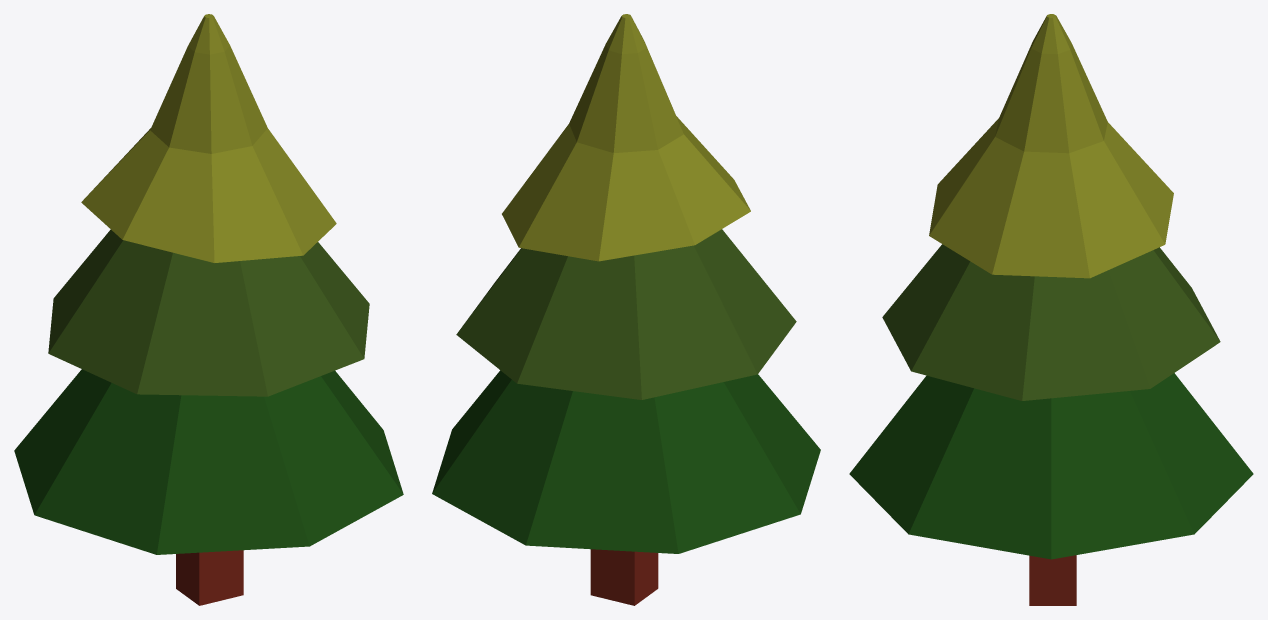
The model's file is tree.fbx.
3 views of the same model, side by side, from view 1: azimuth 30°, elevation 25°; view 2: azimuth 150°, elevation 25°; view 3: azimuth 270°, elevation 25° (orthographic).
Visible parts, largest first — view 1: Cube.014; view 2: Cube.014; view 3: Cube.014.
Boxes of the visible parts, bbox=[...] form: Cube.014: bbox=[14, 14, 403, 605]; Cube.014: bbox=[432, 14, 820, 605]; Cube.014: bbox=[849, 14, 1253, 605].
Bounding box in the file's own units: 101 × 160 × 101.
